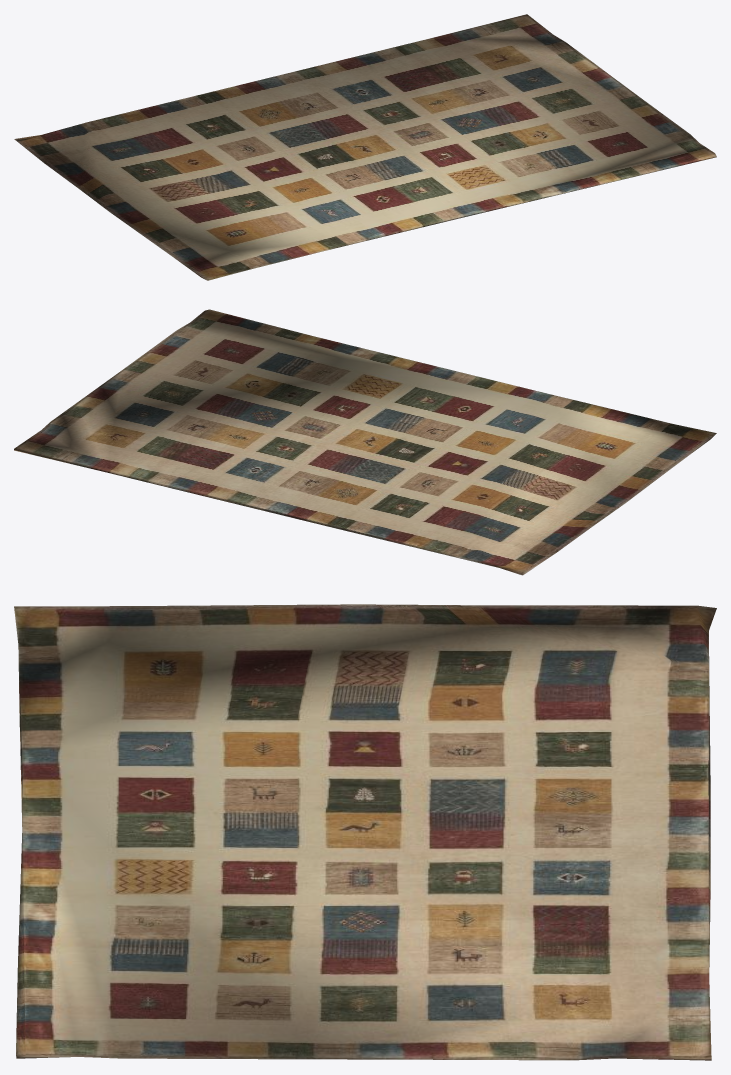
The model's file is vc_rug.glb.
3 views of the same model, one above another, from view 1: azimuth 30°, elevation 25°; view 2: azimuth 150°, elevation 25°; view 3: azimuth 270°, elevation 25° (orthographic). The views are drawn at different scales.
Parts seen in each view (by area): view 1: Object_4; view 2: Object_4; view 3: Object_4.
Part boxes in pixels (left/top/right/bottom): Object_4: left=14, top=14, right=716, bottom=280; Object_4: left=14, top=309, right=716, bottom=575; Object_4: left=14, top=604, right=716, bottom=1060.
Size of the model in its own units: 2.48 by 0.00937 by 1.62.
Materials: 1 (1 with a texture image).
